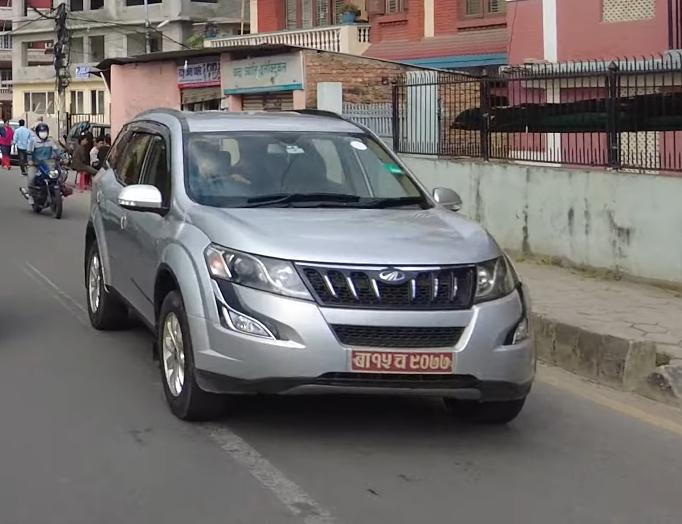bike: (21, 155, 71, 224)
car: (80, 111, 540, 430)
